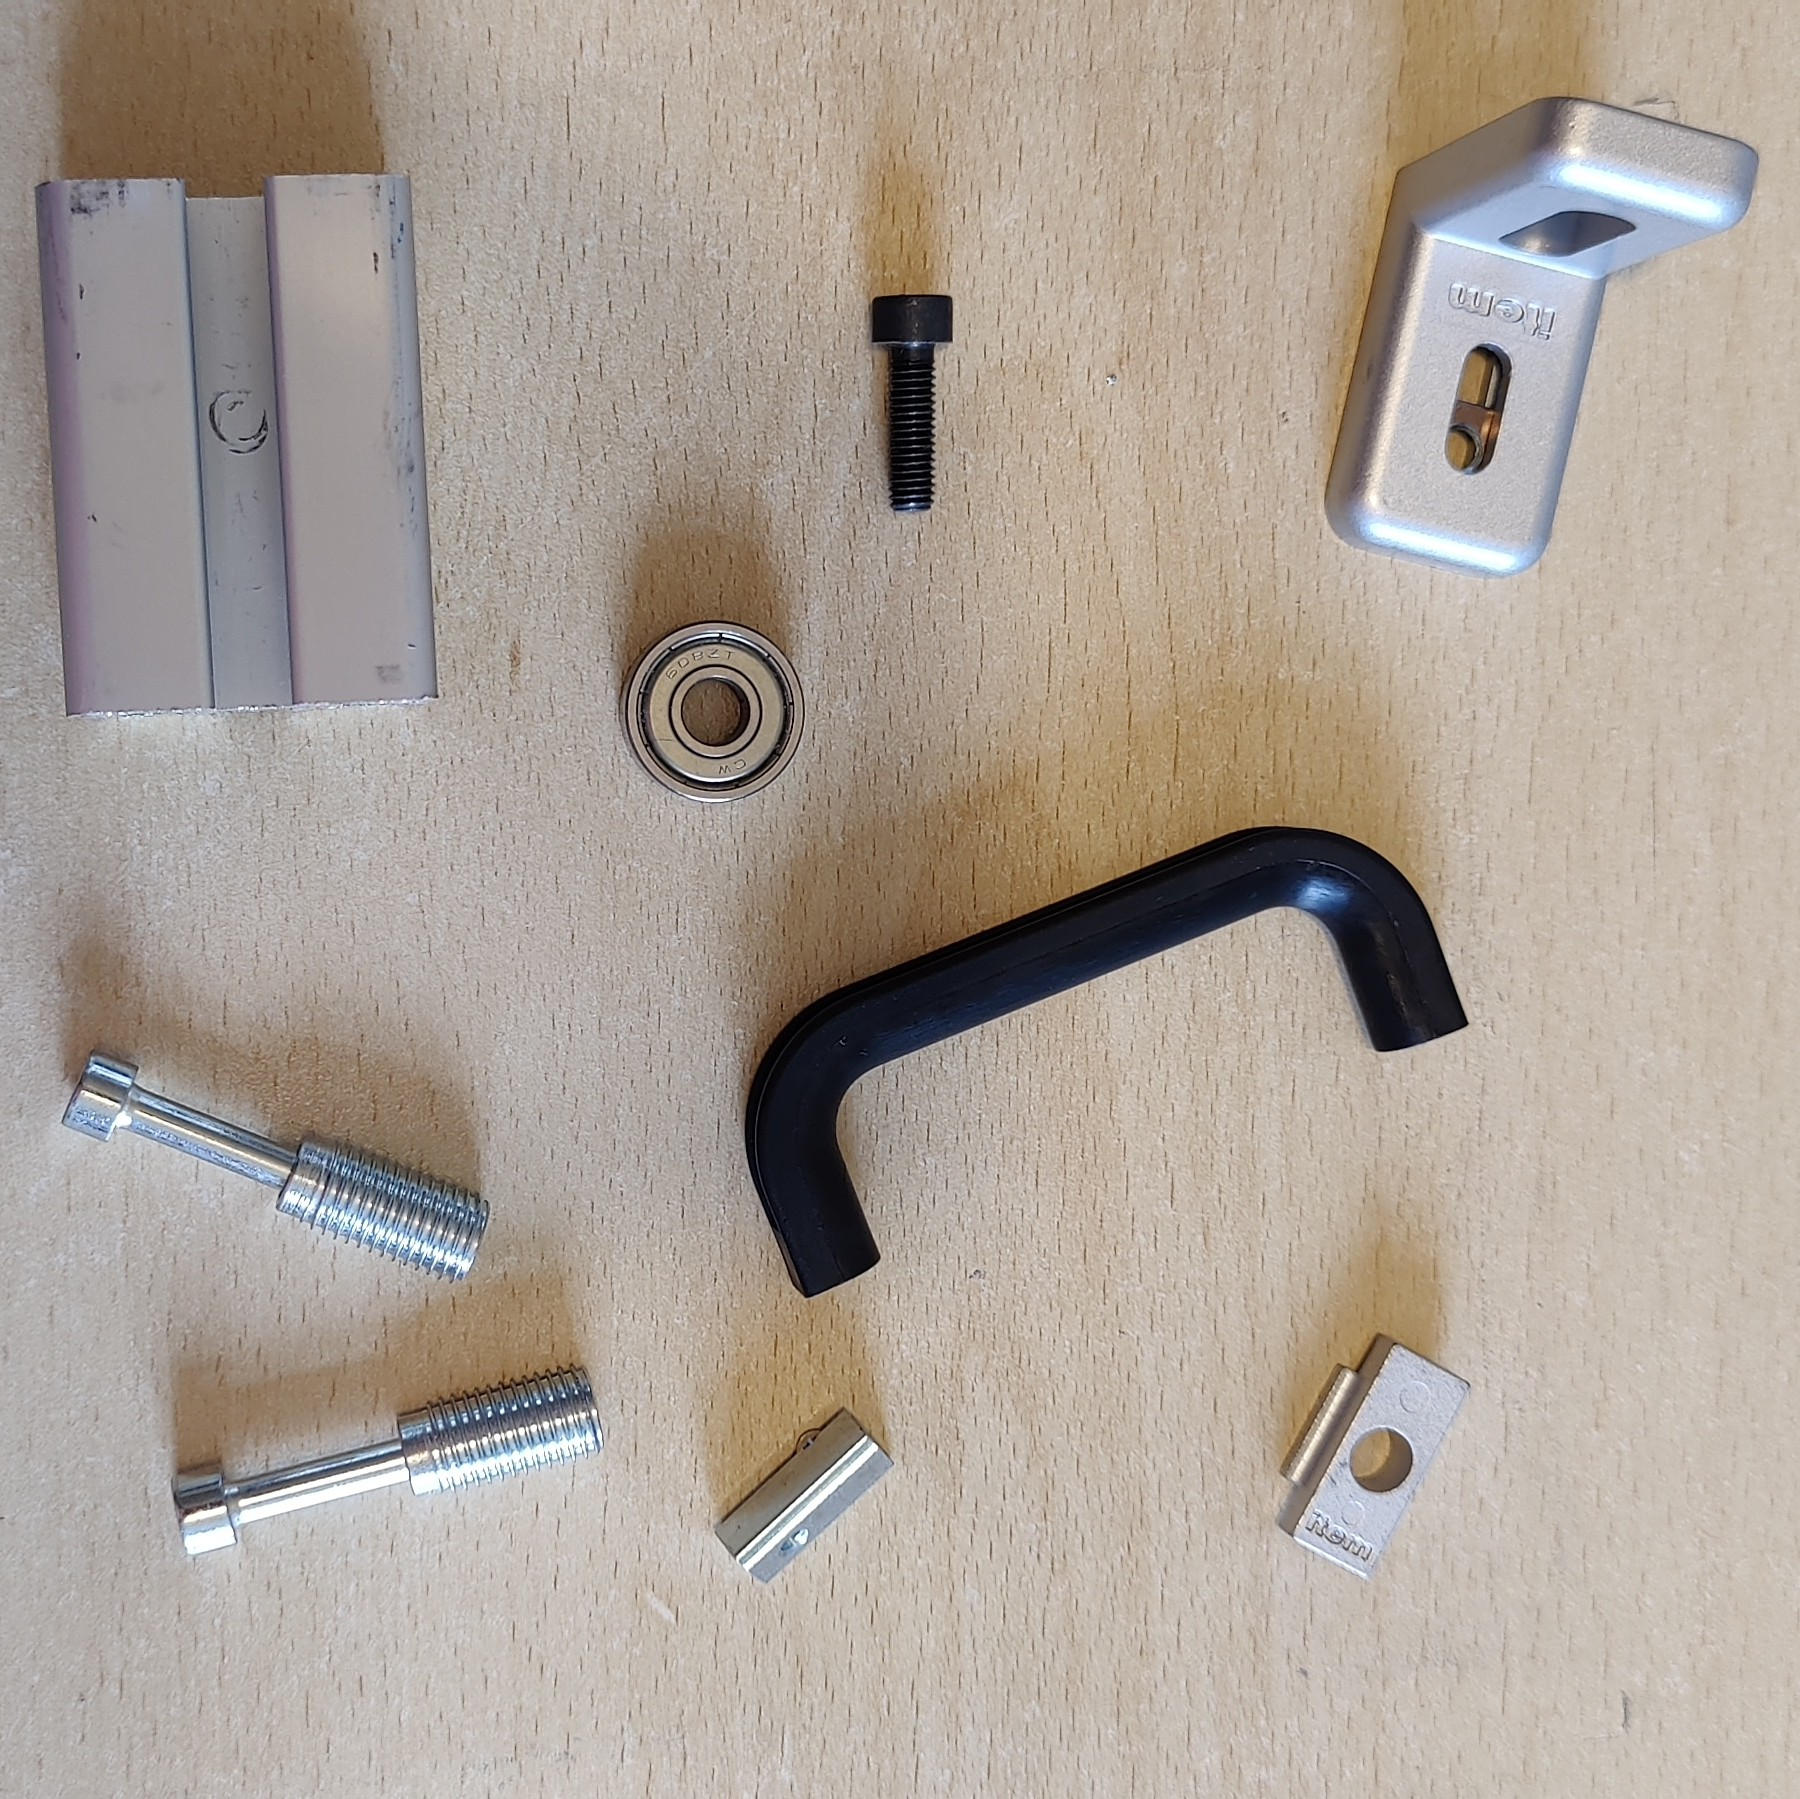Aluminium Extension: (31, 170, 443, 722)
Ball Bearing: (619, 618, 809, 804)
Multiwinkel: (1322, 94, 1760, 582)
Pull Handle: (743, 824, 1474, 1300)
Shoulder Socket Head Cap Screw: (58, 1048, 492, 1287), (170, 1361, 606, 1565)
Socket Head Cap Screw: (865, 290, 957, 516)
T Nut Square: (1270, 1326, 1471, 1583)
T Spring Nut: (711, 1404, 898, 1588)
